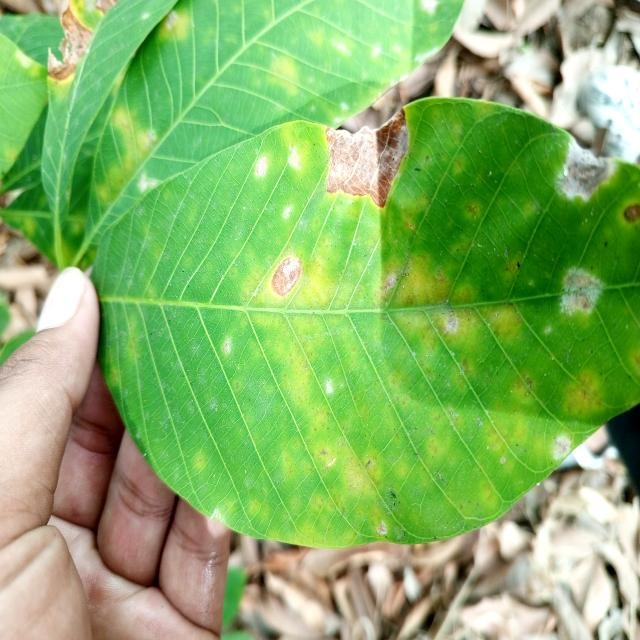Leaf-Blight: (326, 107, 410, 208), (557, 135, 614, 201), (48, 6, 95, 82), (270, 258, 300, 296)
